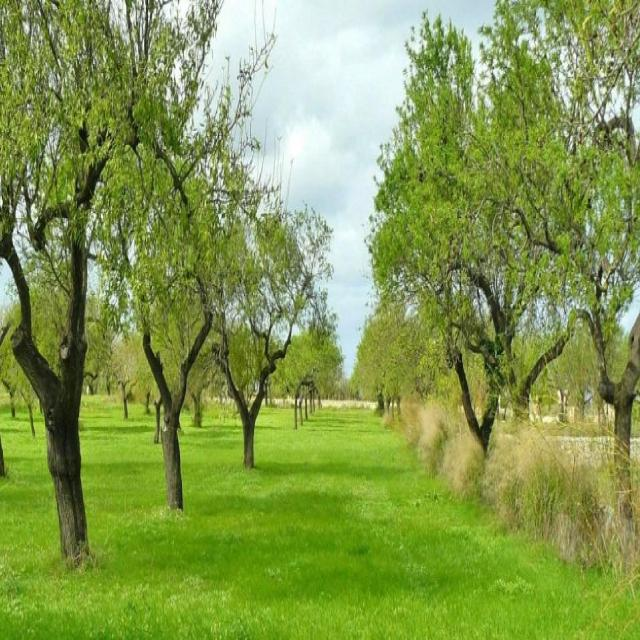row: (1, 405, 638, 640)
